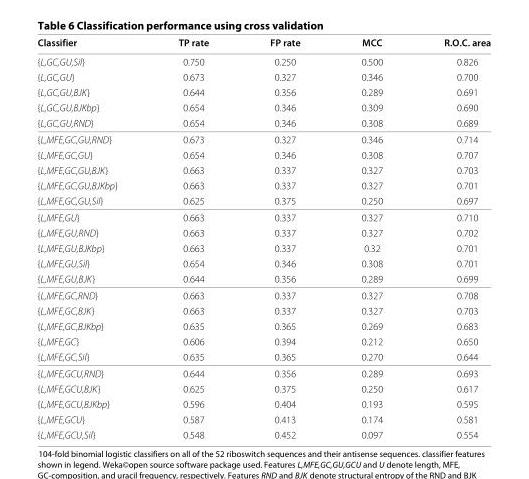table: (36, 36, 490, 439)
table column: (36, 36, 147, 439), (238, 36, 330, 439), (147, 36, 238, 439), (330, 36, 412, 439), (412, 36, 490, 439)
table column header: (36, 36, 490, 51)
table row: (36, 51, 490, 68), (36, 68, 490, 84), (36, 114, 490, 130), (36, 130, 490, 146), (36, 146, 490, 162), (36, 192, 490, 208), (36, 208, 490, 224), (36, 224, 490, 240), (36, 270, 490, 286), (36, 286, 490, 302), (36, 302, 490, 318), (36, 348, 490, 364), (36, 364, 490, 380), (36, 380, 490, 396), (36, 36, 490, 51), (36, 84, 490, 99), (36, 99, 490, 114), (36, 162, 490, 177), (36, 177, 490, 192), (36, 240, 490, 255), (36, 255, 490, 270), (36, 318, 490, 333), (36, 333, 490, 348), (36, 396, 490, 411), (36, 411, 490, 426), (36, 426, 490, 439)
